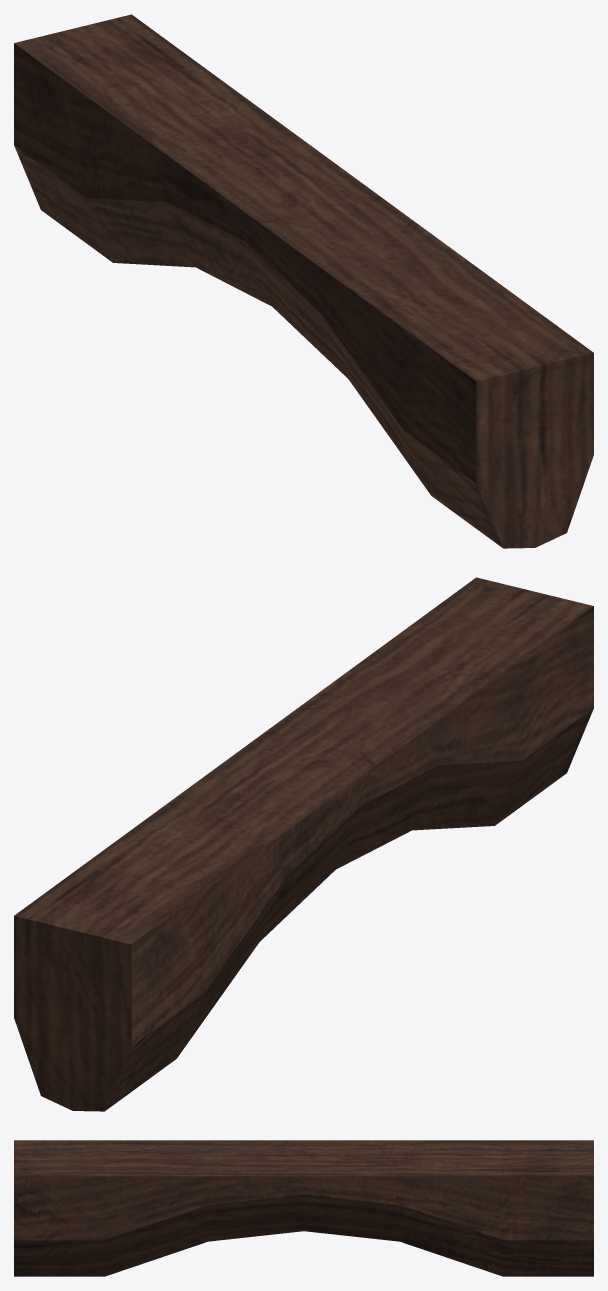
The model's file is Bibliothek_BalconySupport.fbx.
The picture shows the model from 3 angles, top to bottom: view 1: azimuth 30°, elevation 25°; view 2: azimuth 150°, elevation 25°; view 3: azimuth 270°, elevation 25°; orthographic projection. The views are drawn at different scales.
Parts seen in each view (by area): view 1: Bibliothek_BalconySupport; view 2: Bibliothek_BalconySupport; view 3: Bibliothek_BalconySupport.
Boxes of the visible parts, bbox=[...] form: Bibliothek_BalconySupport: bbox=[14, 14, 593, 548]; Bibliothek_BalconySupport: bbox=[14, 577, 593, 1111]; Bibliothek_BalconySupport: bbox=[14, 1140, 593, 1276].
Bounding box in the file's own units: 29.39 × 43.14 × 200.
